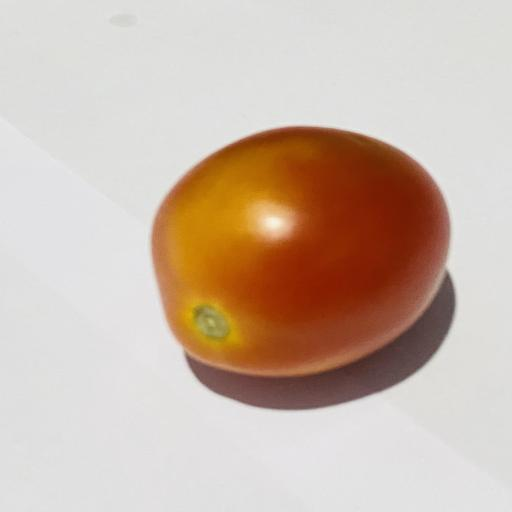ripe: (152, 127, 449, 377)
